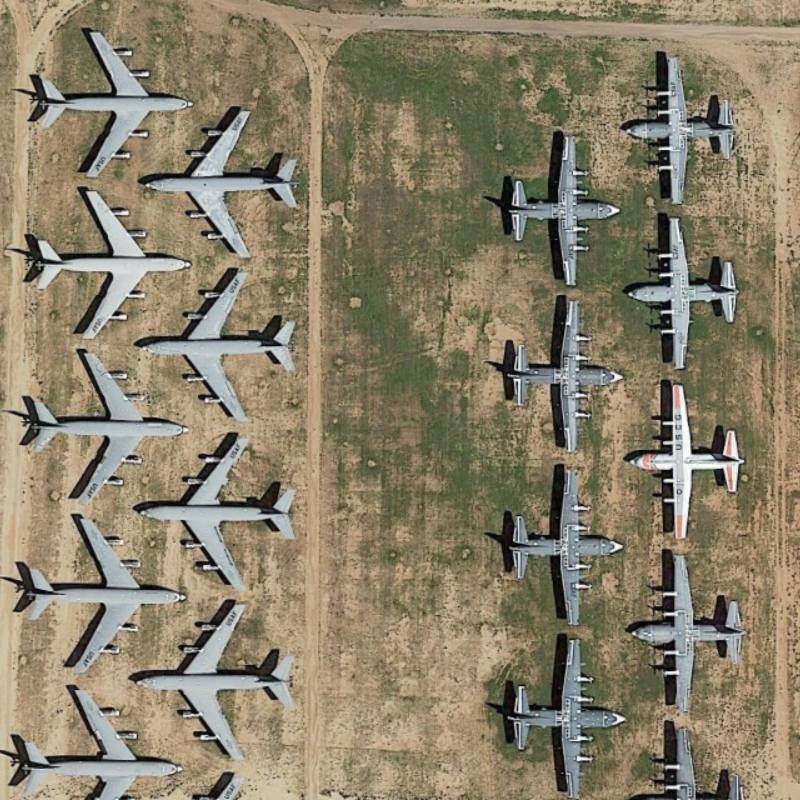A14: (127, 601, 308, 770), (19, 345, 189, 511), (15, 514, 187, 669), (132, 432, 303, 586), (139, 106, 307, 261), (23, 188, 193, 339), (28, 22, 193, 177), (135, 270, 302, 423), (12, 680, 178, 800)
A2: (617, 550, 752, 713), (494, 634, 626, 800), (496, 463, 626, 628), (497, 126, 623, 296), (621, 377, 749, 544), (618, 42, 744, 207), (502, 291, 628, 455), (625, 214, 746, 371)
